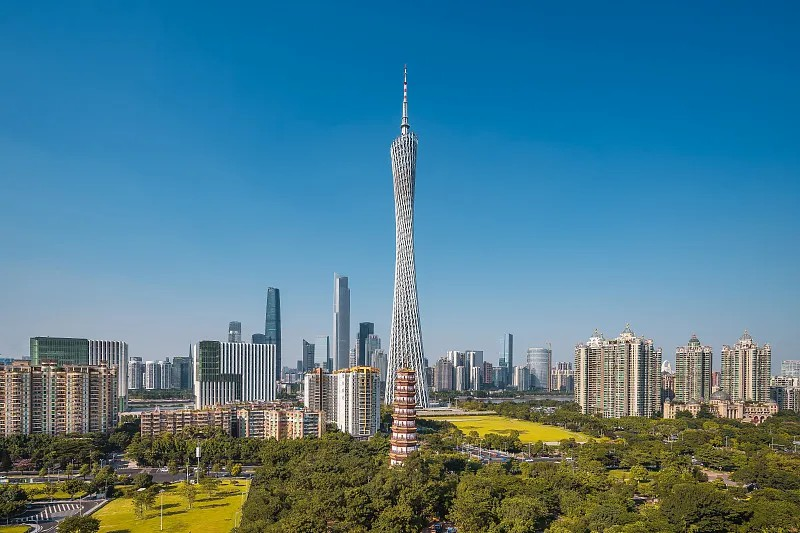Canton: (388, 63, 431, 406)
